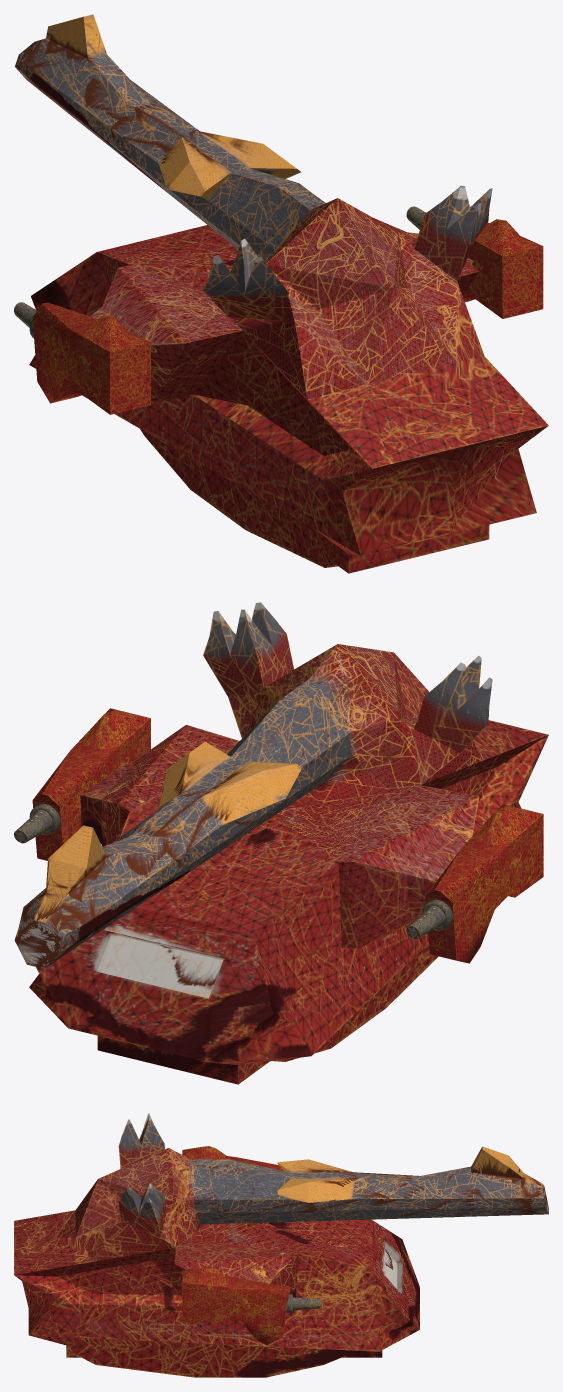
Rendered from TankTop.fbx.
The picture shows the model from 3 angles, top to bottom: view 1: azimuth 30°, elevation 25°; view 2: azimuth 150°, elevation 25°; view 3: azimuth 270°, elevation 25°; orthographic projection. The views are drawn at different scales.
Visible parts, largest first — view 1: polySurface5; view 2: polySurface5; view 3: polySurface5.
Boxes of the visible parts, x1,y1,x2,y2 form: polySurface5: (14,14,548,573); polySurface5: (14,602,548,1084); polySurface5: (14,1113,548,1377).
Bounding box in the file's own units: 6.89 × 5.03 × 11.71.
